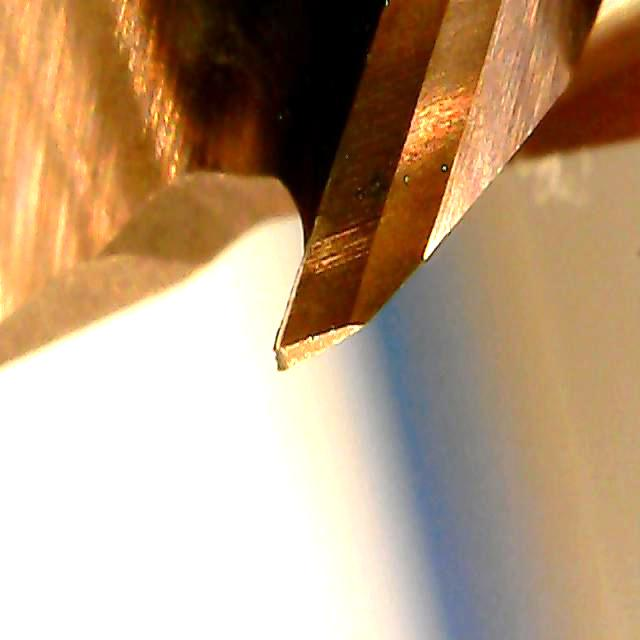Tool-wear-class-1: (258, 168, 418, 379)
